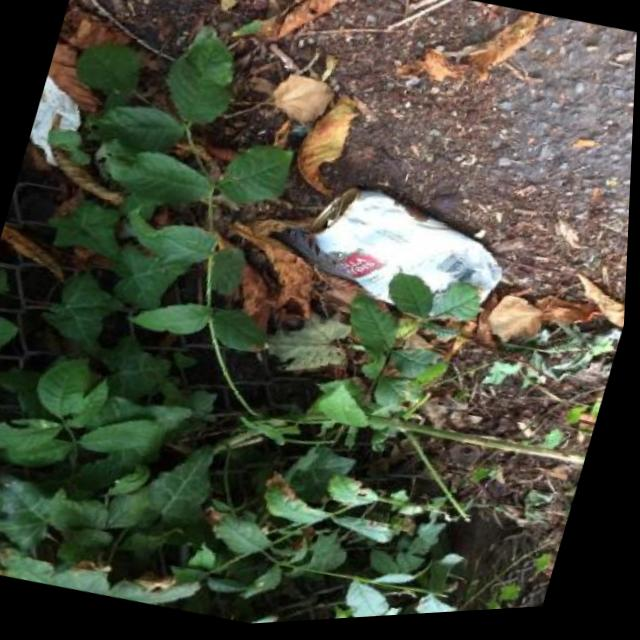metal: (290, 165, 523, 339)
